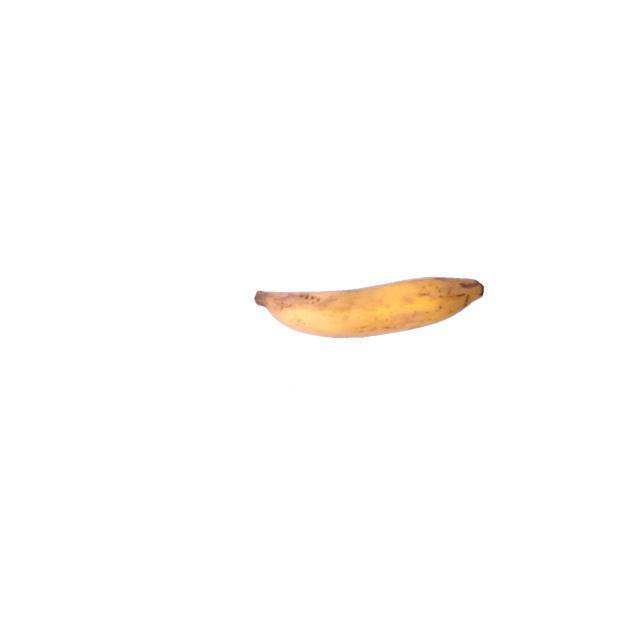Banana: (247, 271, 490, 342)
